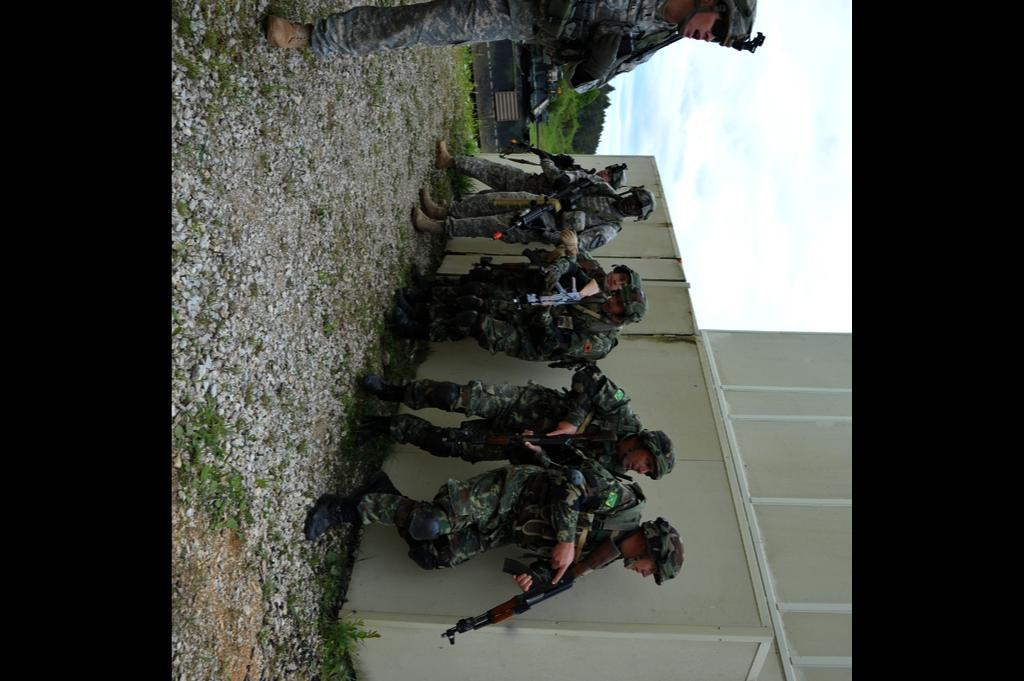gun: (442, 534, 620, 646), (350, 0, 558, 34), (492, 177, 592, 240), (444, 421, 617, 448), (510, 138, 596, 174), (496, 278, 598, 306)
